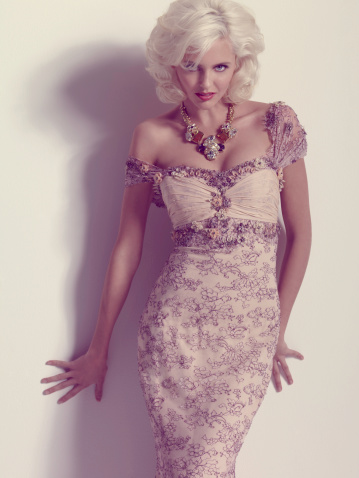em pe: (65, 10, 326, 451)
